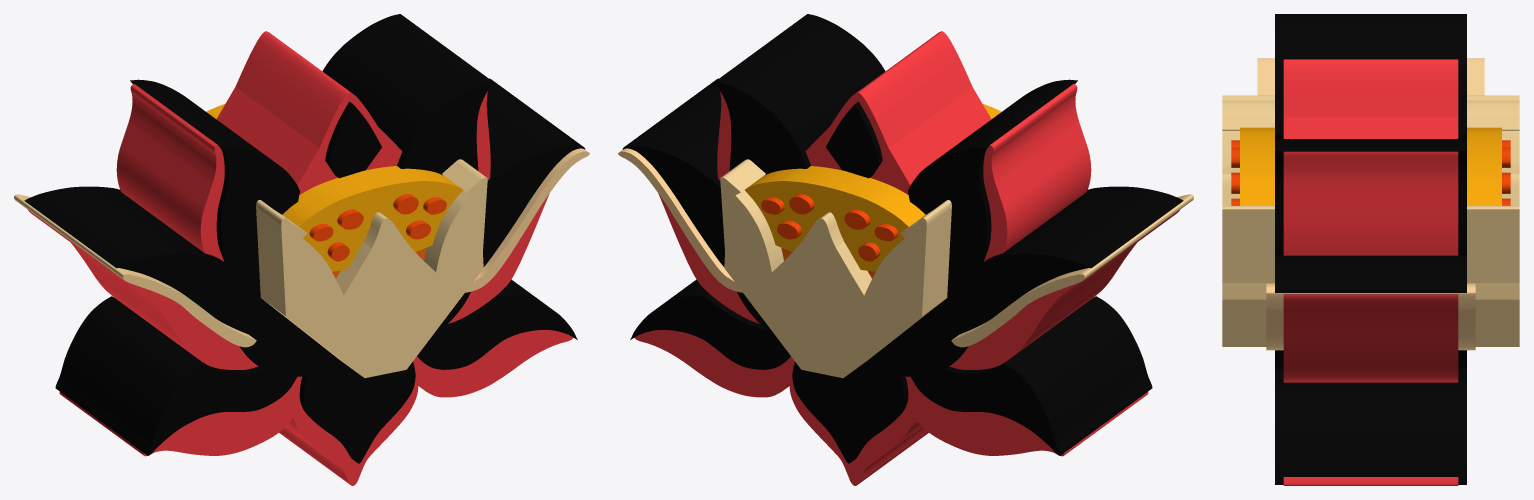
File: U+1FAB7.obj
The picture shows the model from 3 angles, left to right: view 1: azimuth 30°, elevation 25°; view 2: azimuth 150°, elevation 25°; view 3: azimuth 270°, elevation 25°; orthographic projection. The views are drawn at different scales.
Visible parts, largest first — view 1: U+1FAB7_layer00_obj00, U+1FAB7_layer07_obj00, U+1FAB7_layer01_obj00, U+1FAB7_layer01_obj01, U+1FAB7_layer01_obj02, U+1FAB7_layer01_obj09, U+1FAB7_layer05_obj00, U+1FAB7_layer01_obj11, U+1FAB7_layer01_obj07, U+1FAB7_layer01_obj10, U+1FAB7_layer01_obj13, U+1FAB7_layer03_obj00 (+2 smaller); view 2: U+1FAB7_layer00_obj00, U+1FAB7_layer07_obj00, U+1FAB7_layer01_obj00, U+1FAB7_layer01_obj01, U+1FAB7_layer01_obj02, U+1FAB7_layer01_obj09, U+1FAB7_layer05_obj00, U+1FAB7_layer01_obj11, U+1FAB7_layer01_obj07, U+1FAB7_layer01_obj10, U+1FAB7_layer01_obj13, U+1FAB7_layer03_obj00 (+2 smaller); view 3: U+1FAB7_layer00_obj00, U+1FAB7_layer07_obj00, U+1FAB7_layer01_obj10, U+1FAB7_layer01_obj09, U+1FAB7_layer01_obj11, U+1FAB7_layer05_obj00, U+1FAB7_layer01_obj01, U+1FAB7_layer02_obj00, U+1FAB7_layer03_obj00, U+1FAB7_layer01_obj08, U+1FAB7_layer06_obj00, U+1FAB7_layer06_obj03 (+1 smaller).
Part boxes in pixels (x1,y1,x2,y2): U+1FAB7_layer00_obj00: [28, 31, 573, 485]; U+1FAB7_layer07_obj00: [256, 159, 487, 377]; U+1FAB7_layer01_obj00: [55, 296, 297, 455]; U+1FAB7_layer01_obj01: [322, 14, 492, 174]; U+1FAB7_layer01_obj02: [24, 186, 254, 335]; U+1FAB7_layer01_obj09: [130, 79, 299, 300]; U+1FAB7_layer05_obj00: [206, 104, 462, 271]; U+1FAB7_layer01_obj11: [483, 78, 585, 266]; U+1FAB7_layer01_obj07: [299, 340, 415, 463]; U+1FAB7_layer01_obj10: [417, 279, 577, 369]; U+1FAB7_layer01_obj13: [236, 284, 339, 376]; U+1FAB7_layer03_obj00: [14, 194, 256, 347]; U+1FAB7_layer00_obj00: [634, 31, 1179, 485]; U+1FAB7_layer07_obj00: [720, 159, 951, 377]; U+1FAB7_layer01_obj00: [910, 296, 1152, 455]; U+1FAB7_layer01_obj01: [715, 14, 885, 174]; U+1FAB7_layer01_obj02: [953, 186, 1183, 335]; U+1FAB7_layer01_obj09: [908, 79, 1077, 300]; U+1FAB7_layer05_obj00: [745, 104, 1001, 271]; U+1FAB7_layer01_obj11: [622, 78, 724, 266]; U+1FAB7_layer01_obj07: [792, 340, 908, 463]; U+1FAB7_layer01_obj10: [630, 279, 790, 369]; U+1FAB7_layer01_obj13: [868, 286, 971, 376]; U+1FAB7_layer03_obj00: [951, 194, 1193, 347]; U+1FAB7_layer00_obj00: [1283, 59, 1458, 485]; U+1FAB7_layer07_obj00: [1222, 95, 1519, 346]; U+1FAB7_layer01_obj10: [1275, 369, 1466, 484]; U+1FAB7_layer01_obj09: [1275, 14, 1466, 68]; U+1FAB7_layer01_obj11: [1275, 255, 1466, 292]; U+1FAB7_layer05_obj00: [1240, 127, 1501, 205]; U+1FAB7_layer01_obj01: [1275, 139, 1466, 255]; U+1FAB7_layer02_obj00: [1266, 283, 1475, 350]; U+1FAB7_layer03_obj00: [1257, 58, 1484, 95]; U+1FAB7_layer01_obj08: [1275, 68, 1466, 138]; U+1FAB7_layer06_obj00: [1231, 173, 1510, 193]; U+1FAB7_layer06_obj03: [1231, 147, 1510, 167].
Size of the model in its own units: 0.324 by 0.259 by 0.17.
